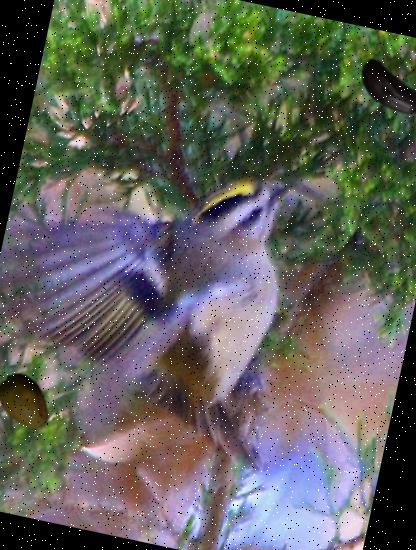Eggplant: (343, 42, 416, 143)
Papaya: (0, 364, 61, 440)
